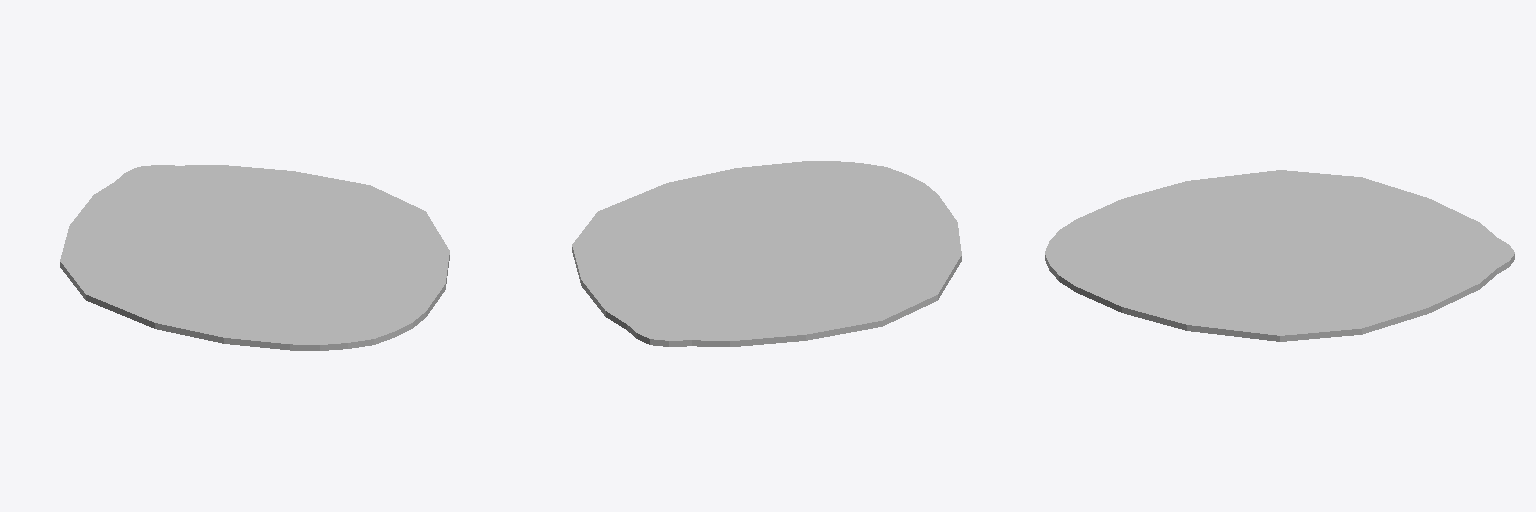
The model's file is rosePetal.obj.
3 views of the same model, side by side, from view 1: azimuth 30°, elevation 25°; view 2: azimuth 150°, elevation 25°; view 3: azimuth 270°, elevation 25° (orthographic).
Parts seen in each view (by area): view 1: Petal; view 2: Petal; view 3: Petal.
Boxes of the visible parts, box(x1,y1,x2,y2) form: Petal: box(60, 165, 449, 350); Petal: box(572, 161, 961, 346); Petal: box(1045, 170, 1514, 341).
Bounding box in the file's own units: 7.45 × 0.1278 × 8.94.